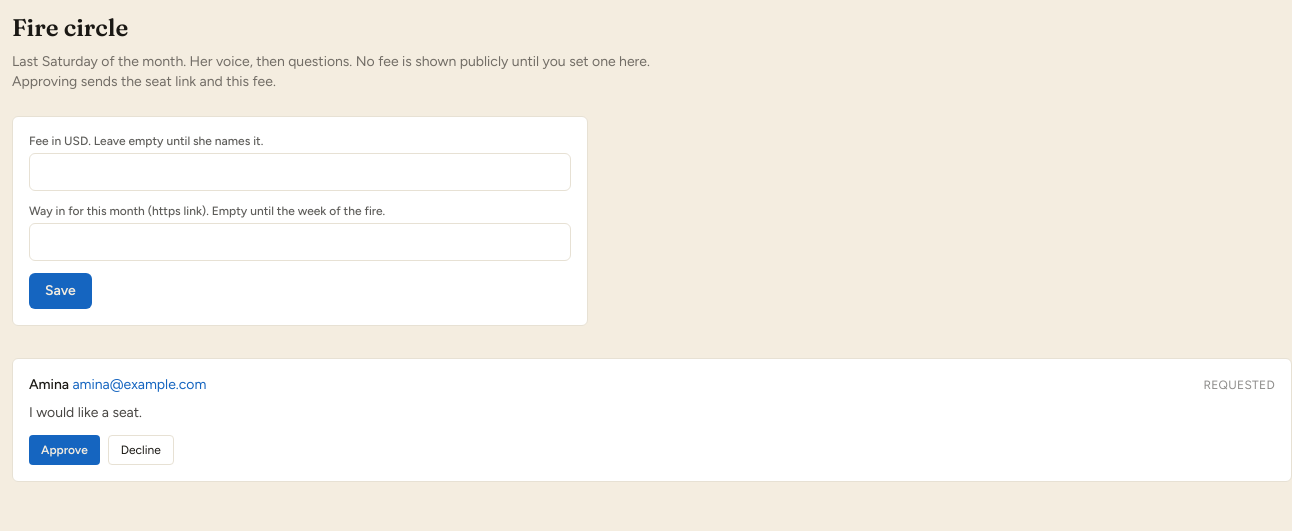
Test: FireCircleAdmin save › re-enables Save and says so when the network fails
The image size is (1292, 531).
Click the button "Save".
click(60, 291)  # box [29, 273, 92, 309]
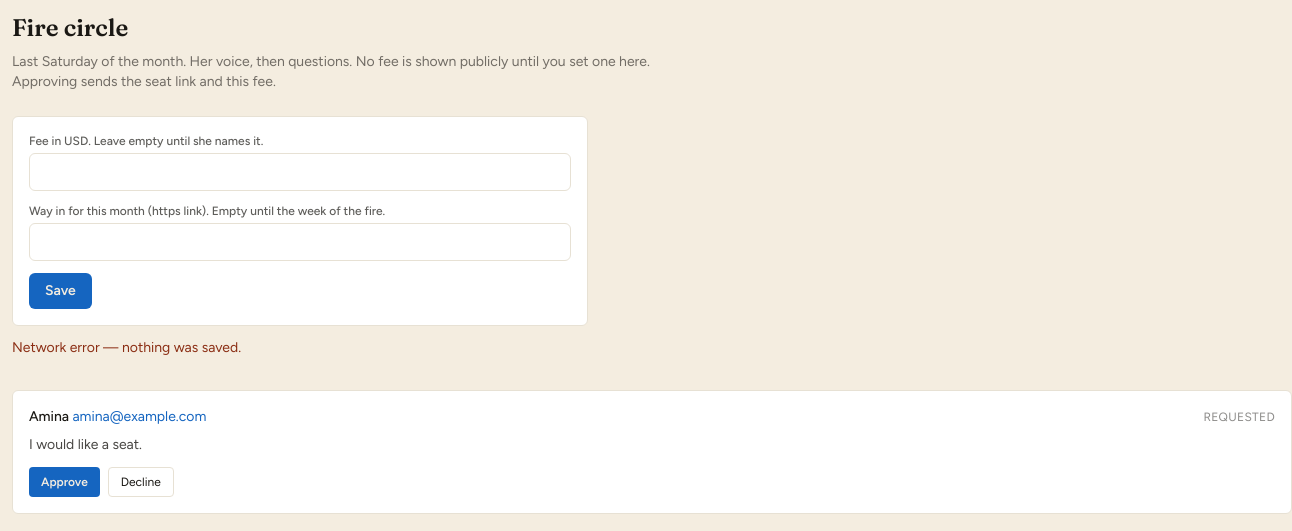
Result: the message shows "Network error" at [12, 339, 241, 356]
